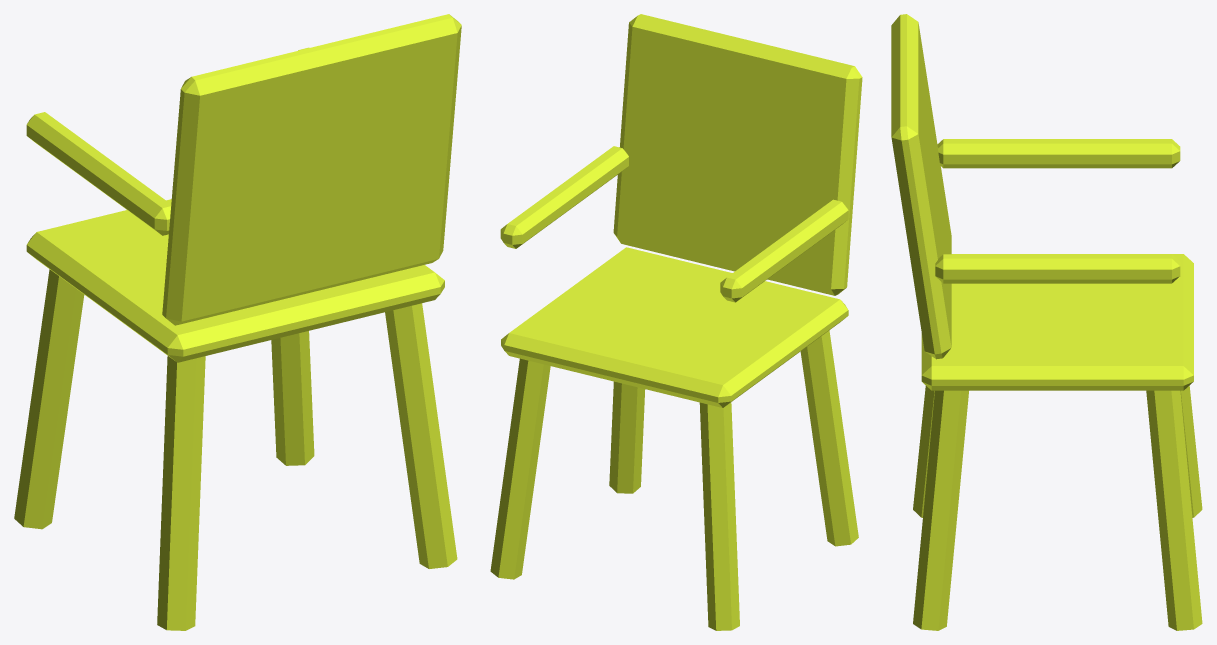
The model's file is garden_chair.fbx.
The picture shows the model from 3 angles, left to right: view 1: azimuth 30°, elevation 25°; view 2: azimuth 150°, elevation 25°; view 3: azimuth 270°, elevation 25°; orthographic projection. The views are drawn at different scales.
Parts seen in each view (by area): view 1: Prop; view 2: Prop; view 3: Prop.
Part boxes in pixels (<box>): Prop: <box>14,14,461,630</box>; Prop: <box>490,14,862,630</box>; Prop: <box>891,14,1202,630</box>.
Size of the model in its own units: 0.4408 by 0.4568 by 0.8103.
